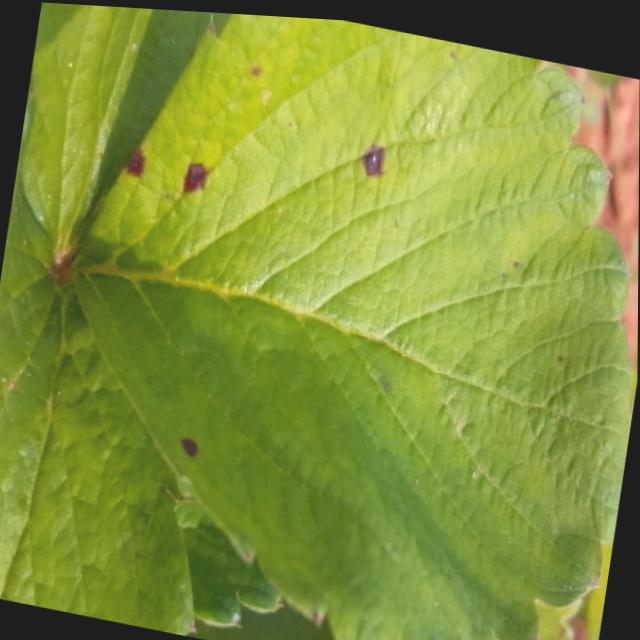Leaf Spot: (70, 10, 633, 640), (0, 117, 197, 632), (184, 592, 334, 640)
